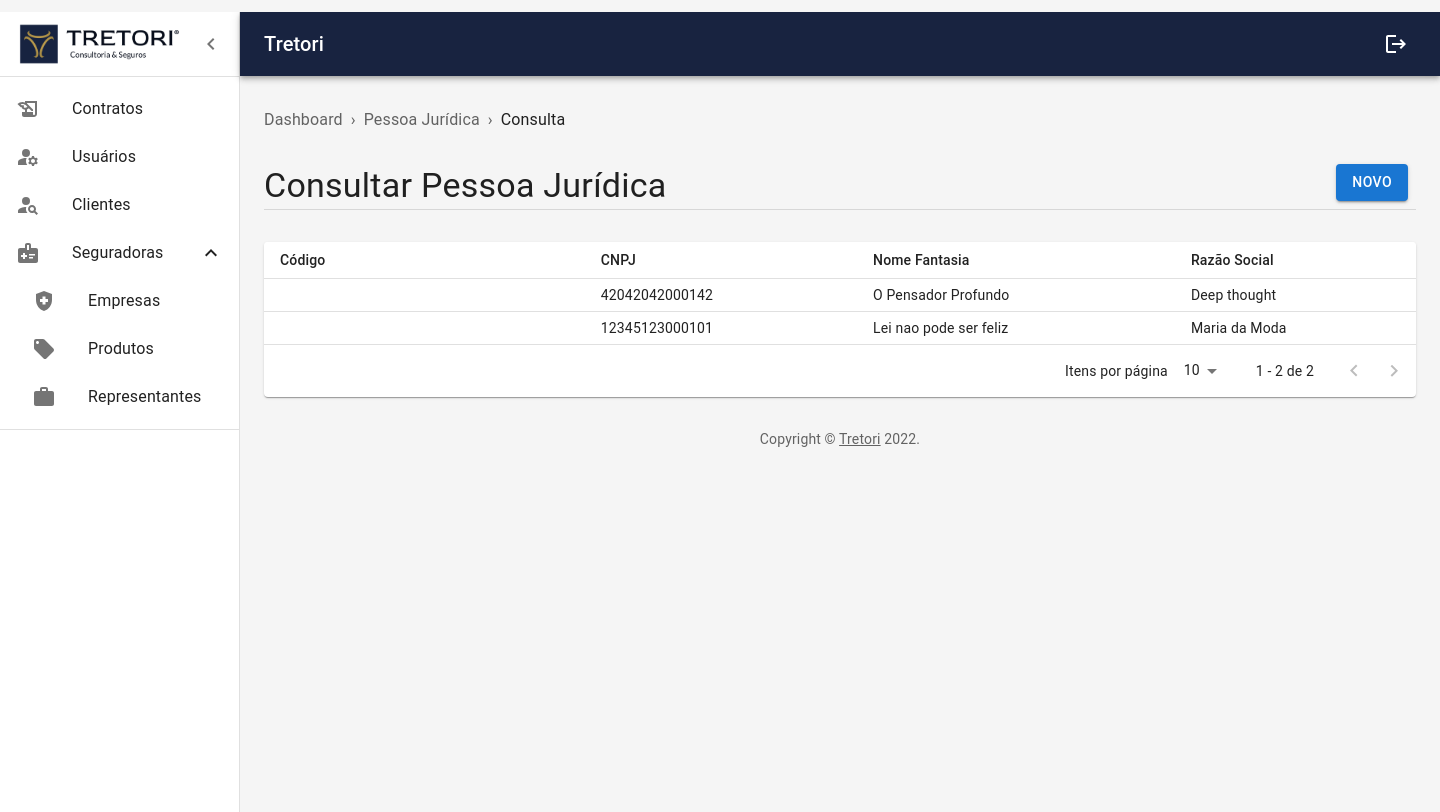
it: Customer - Legal person › Should create a new Legal Person
Click the button with id "newBtn" at (1372, 183), box [1336,164,1408,201]
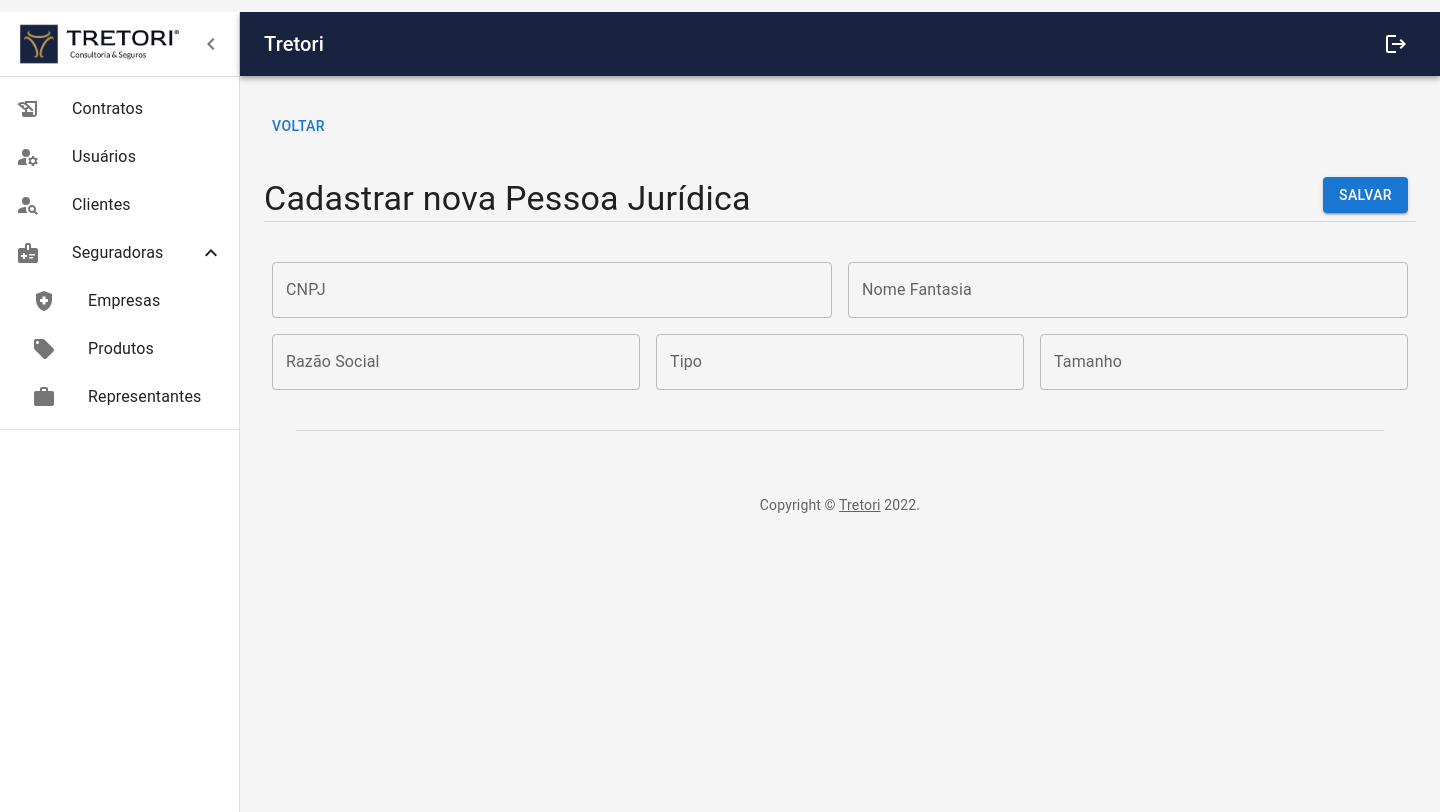
Type "23789000000100" into the field named "cnpj" at (552, 290), box [272,262,832,318]
Type "Akts" into the field named "fantasy_name" at (1128, 290), box [848,262,1408,318]
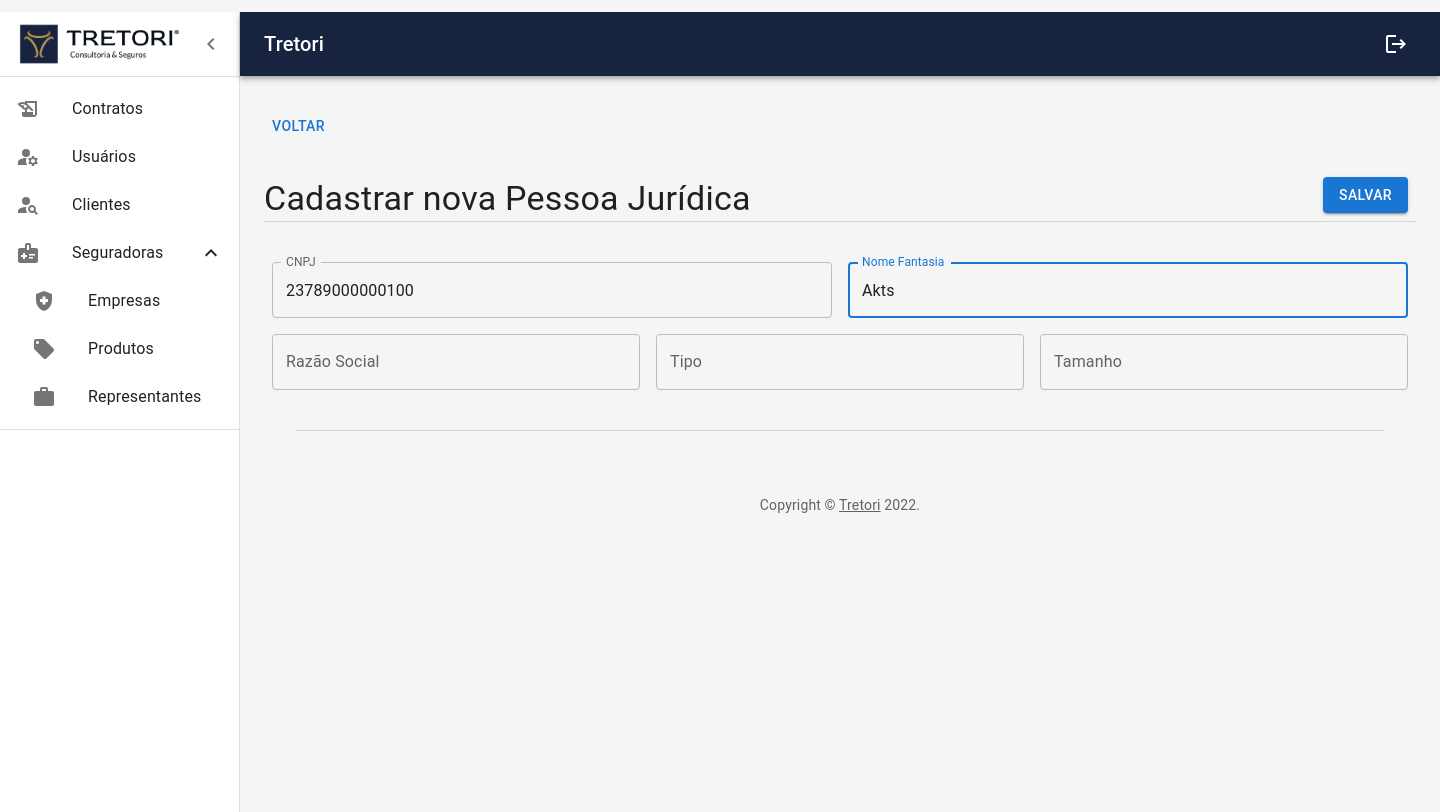
Type "Teste" into the field named "social_reason" at (456, 362), box [272,334,640,390]
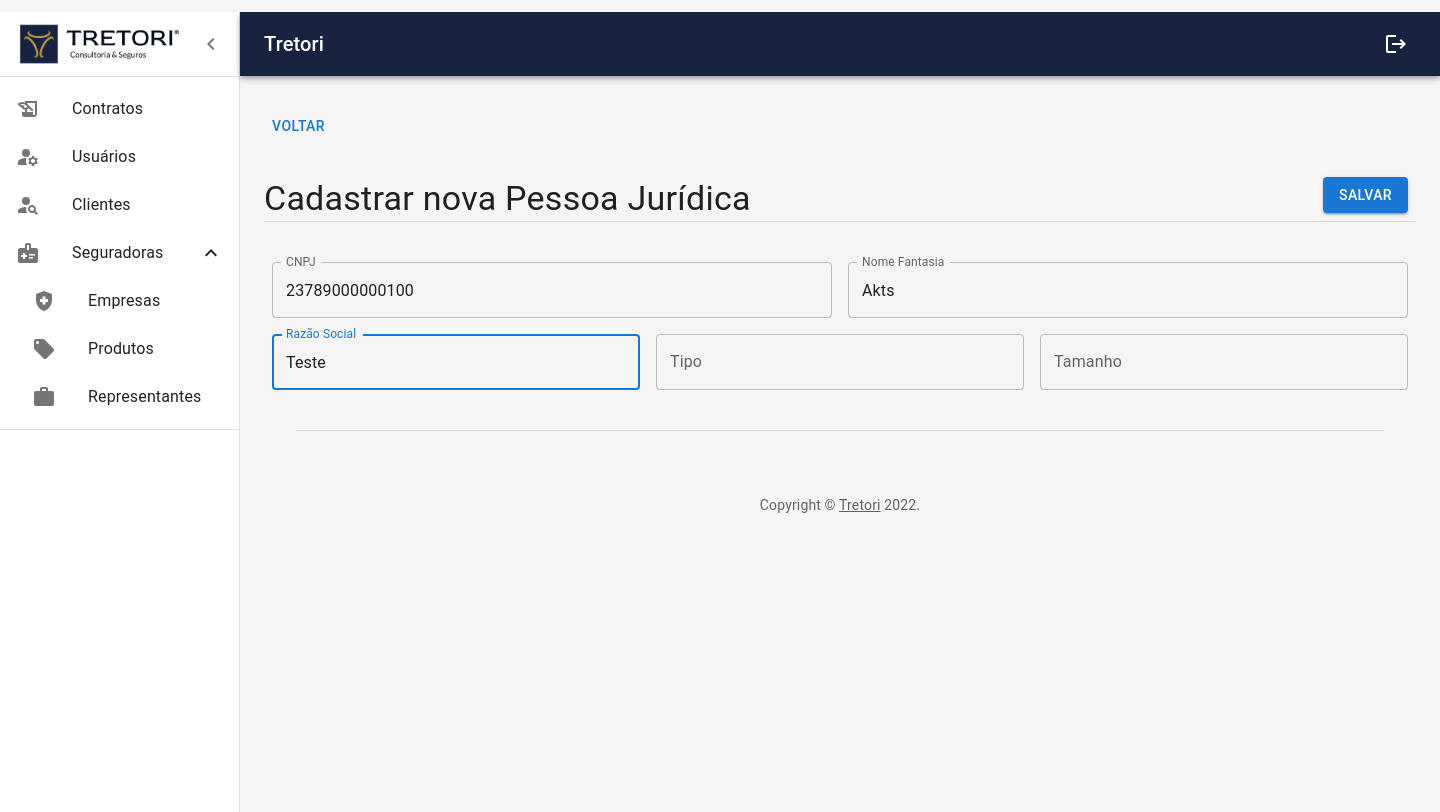
Type "Fornecedor" into the field named "type" at (840, 362), box [656,334,1024,390]
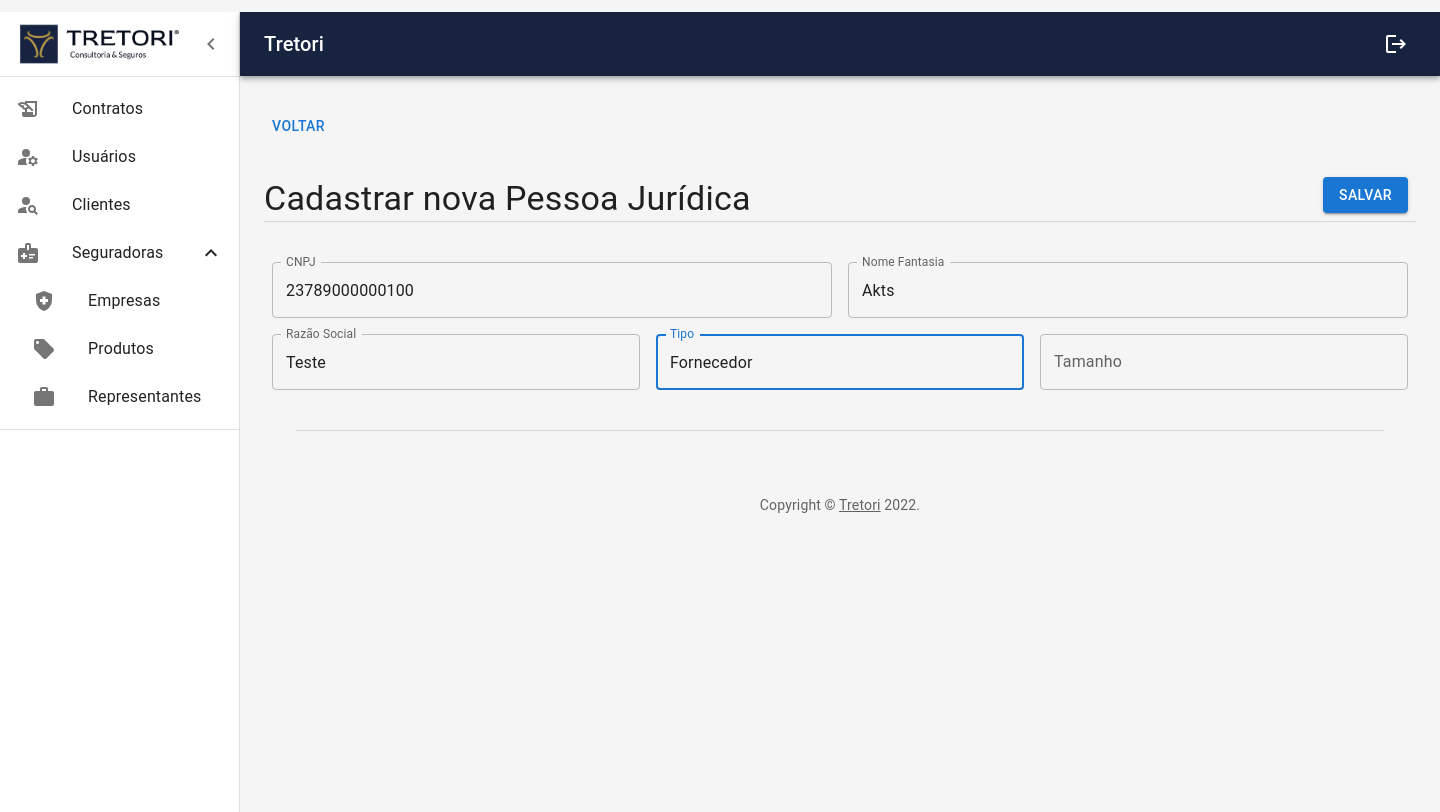
Type "Micro" into the field named "size" at (1224, 362), box [1040,334,1408,390]
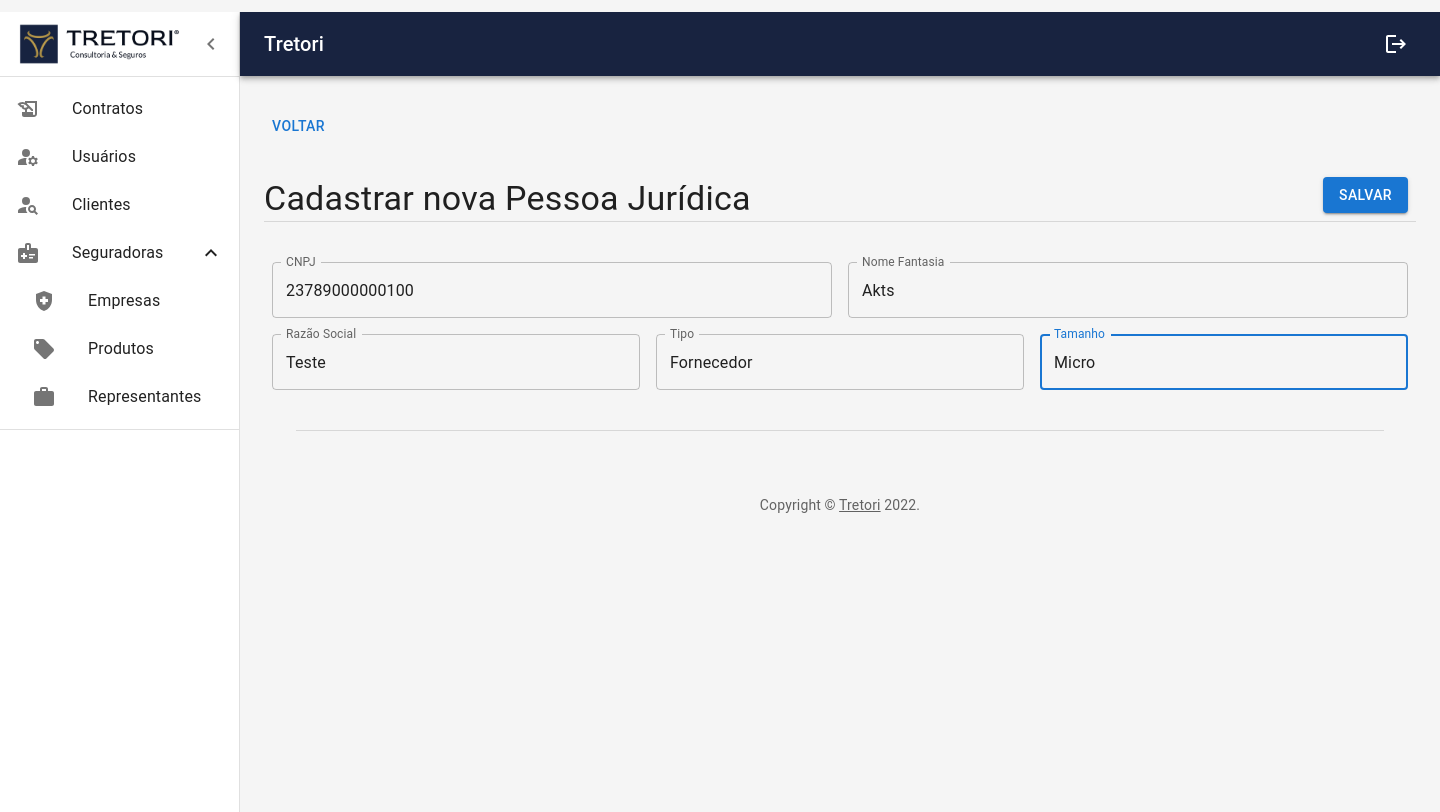
Click the button with id "saveBtn" at (1366, 196), box [1323,177,1408,214]
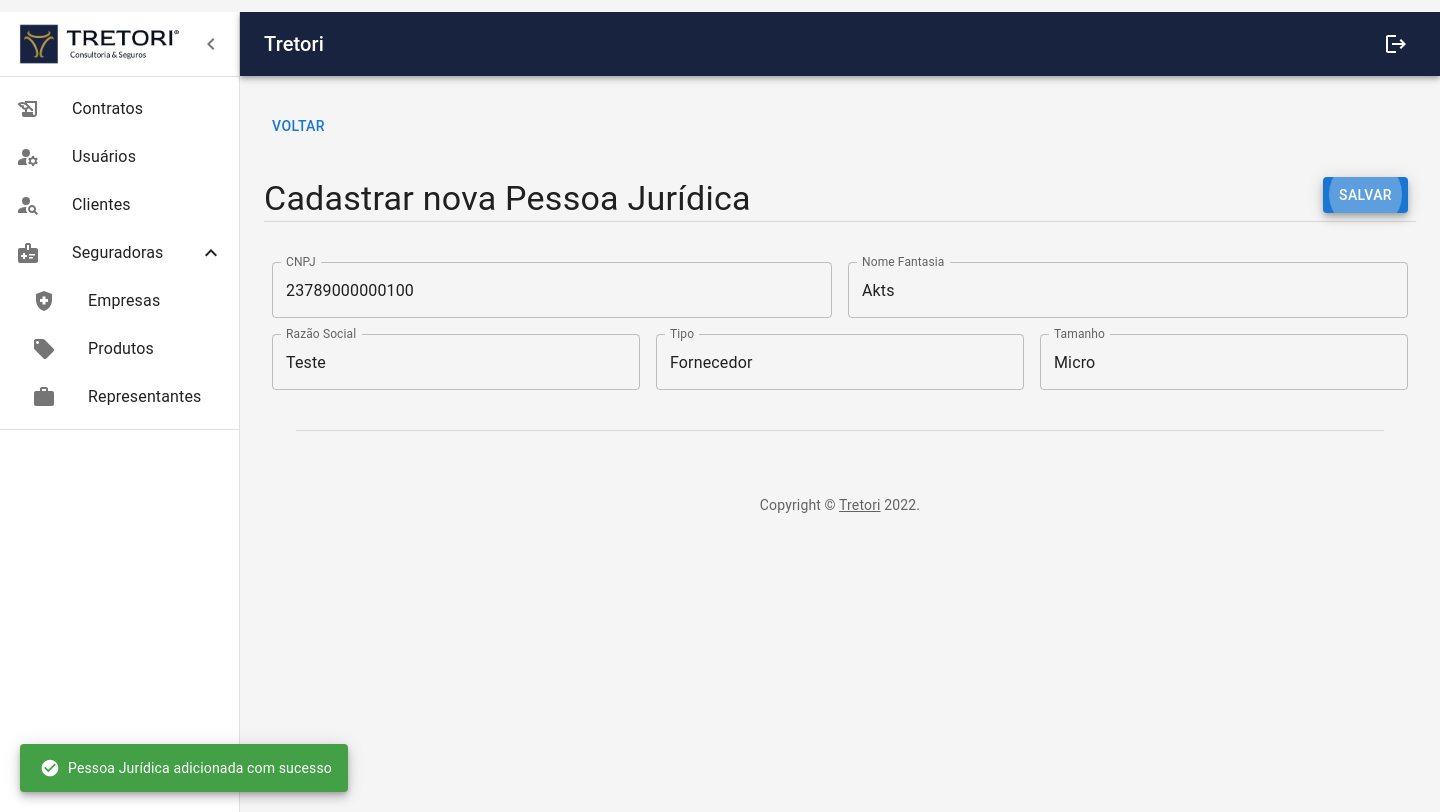
Now the element with id "notistack-snackbar" reads "Pessoa Jurídica adicionada com sucesso", box [40,758,332,778]
